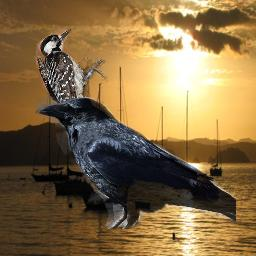Crow: (35, 97, 236, 229)
Woodpecker: (31, 24, 116, 155)
